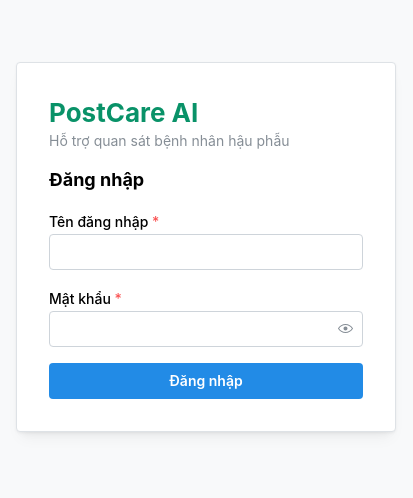
Test: LoginPage › LoginPage shows error on 401
This screenshot has width=413, height=498.
Step 1. Type "nurse" into the field labelled "Tên đăng nhập" → {"x": 206, "y": 252}, box left=49, top=234, right=363, bottom=270
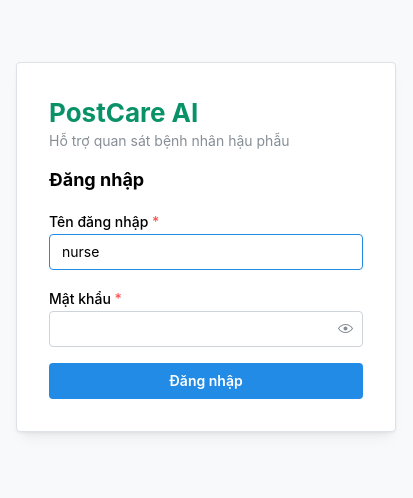
Step 2. Type "sai" into the password field labelled "Mật khẩu" → {"x": 206, "y": 328}, box left=50, top=312, right=362, bottom=346
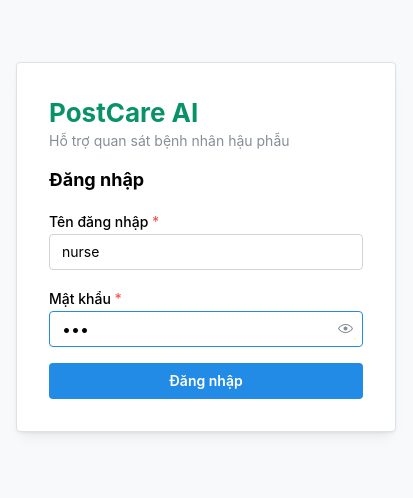
Step 3. Click the button "Đăng nhập" → {"x": 206, "y": 380}, box left=49, top=362, right=363, bottom=398
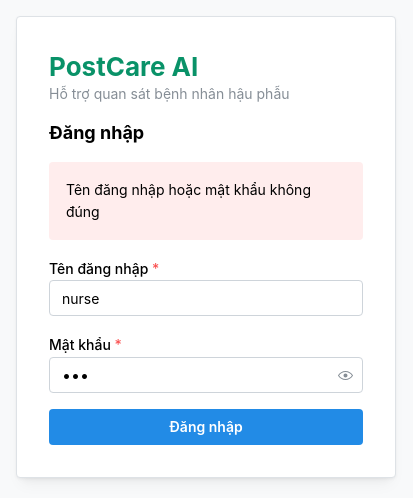
Now the text "Tên đăng nhập hoặc mật khẩu không đúng" is shown, box left=66, top=179, right=346, bottom=223
